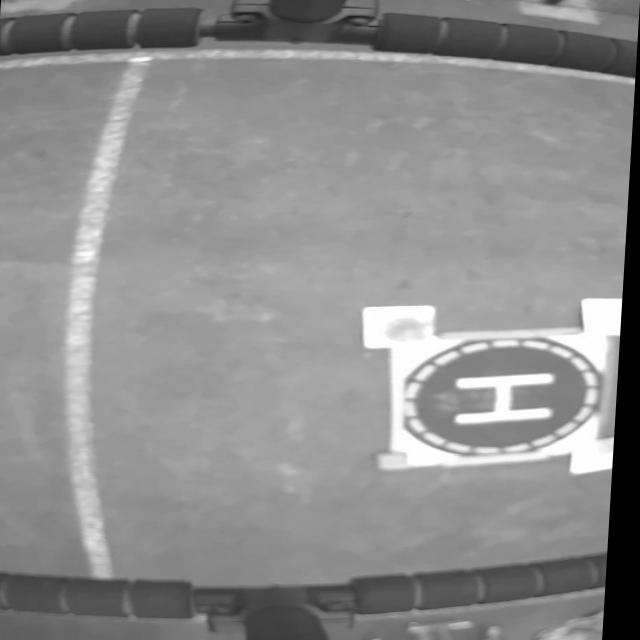Helipad: (458, 372, 558, 426)
